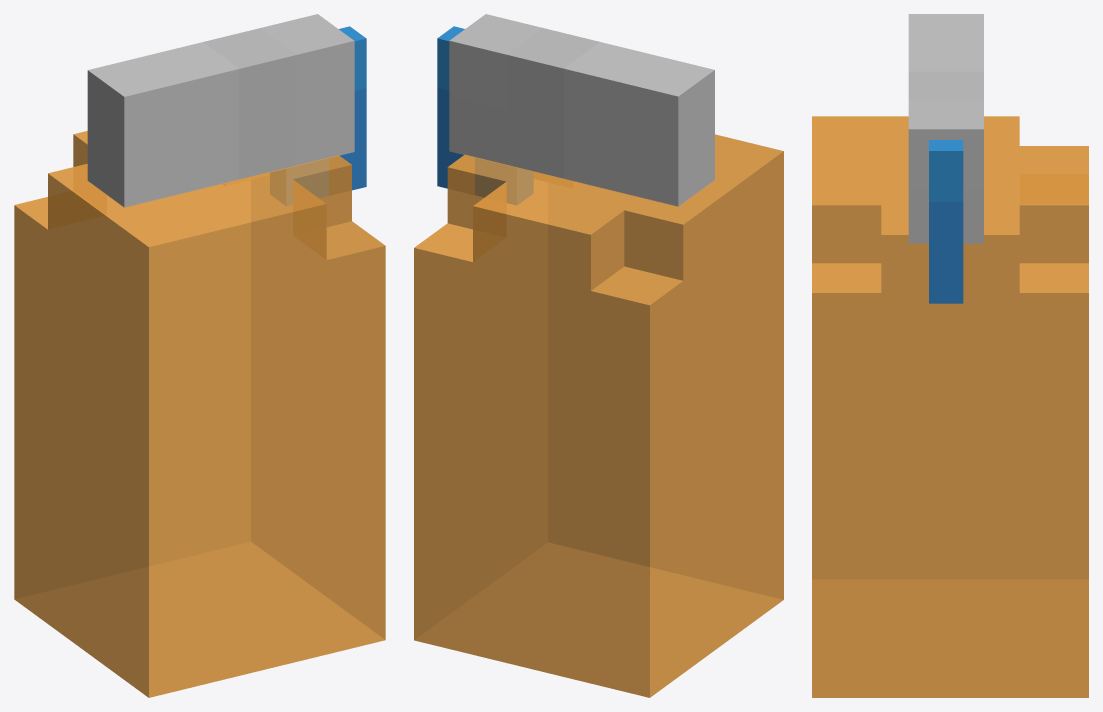
Rendered from sprayer-milanesa0639_HDfEfa2kHZ-blocky.glb.
3 views of the same model, side by side, from view 1: azimuth 30°, elevation 25°; view 2: azimuth 150°, elevation 25°; view 3: azimuth 270°, elevation 25° (orthographic). The views are drawn at different scales.
Parts seen in each view (by area): view 1: pulverizador_naranja, pulverizador_gris_claro, pulverizador_celeste; view 2: pulverizador_naranja, pulverizador_gris_claro, pulverizador_celeste; view 3: pulverizador_naranja, pulverizador_gris_claro, pulverizador_celeste.
Boxes of the visible parts, <box> form: pulverizador_naranja: <box>14,131,385,697</box>; pulverizador_gris_claro: <box>87,14,354,207</box>; pulverizador_celeste: <box>270,26,366,205</box>; pulverizador_naranja: <box>414,134,783,697</box>; pulverizador_gris_claro: <box>449,14,714,206</box>; pulverizador_celeste: <box>437,26,533,204</box>; pulverizador_naranja: <box>812,116,1088,697</box>; pulverizador_gris_claro: <box>908,14,983,243</box>; pulverizador_celeste: <box>929,140,963,303</box>.
Size of the model in its own units: 2.28 by 4.46 by 1.94.
Materials: 3 (2 with a texture image).
